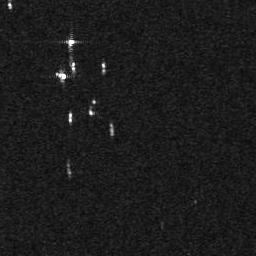ship: (55, 71, 68, 81), (66, 37, 76, 46), (70, 61, 76, 73), (68, 111, 73, 123), (7, 1, 14, 8)
